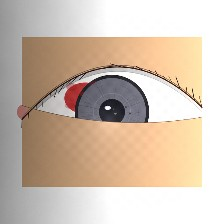hemorrhage_spot: (56, 75, 115, 121)
